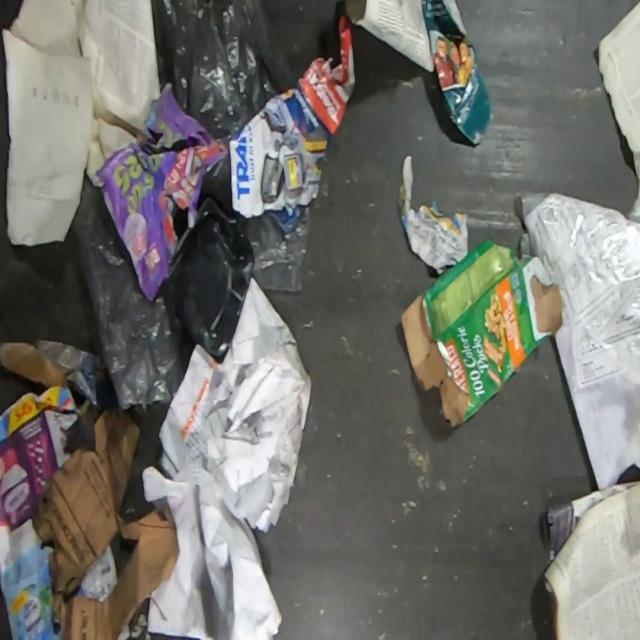cardboard: (32, 407, 178, 640), (396, 236, 566, 432), (0, 337, 120, 452)
rigid_plastic: (160, 196, 256, 360)
soft_plastic: (519, 185, 640, 486), (70, 169, 198, 410), (152, 0, 293, 144), (248, 203, 317, 292)
